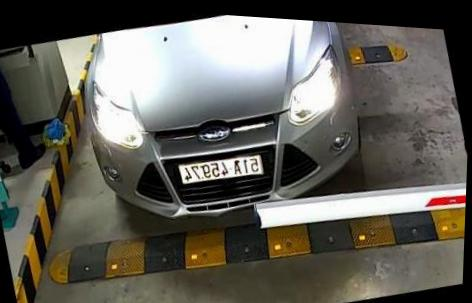License_Plate: (175, 146, 265, 192)
